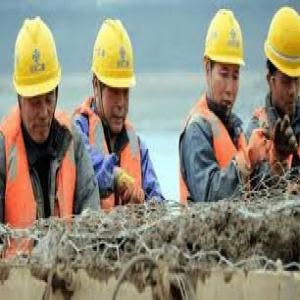yellow: (12, 14, 64, 145), (88, 12, 139, 139), (201, 5, 246, 117), (262, 5, 300, 121)
